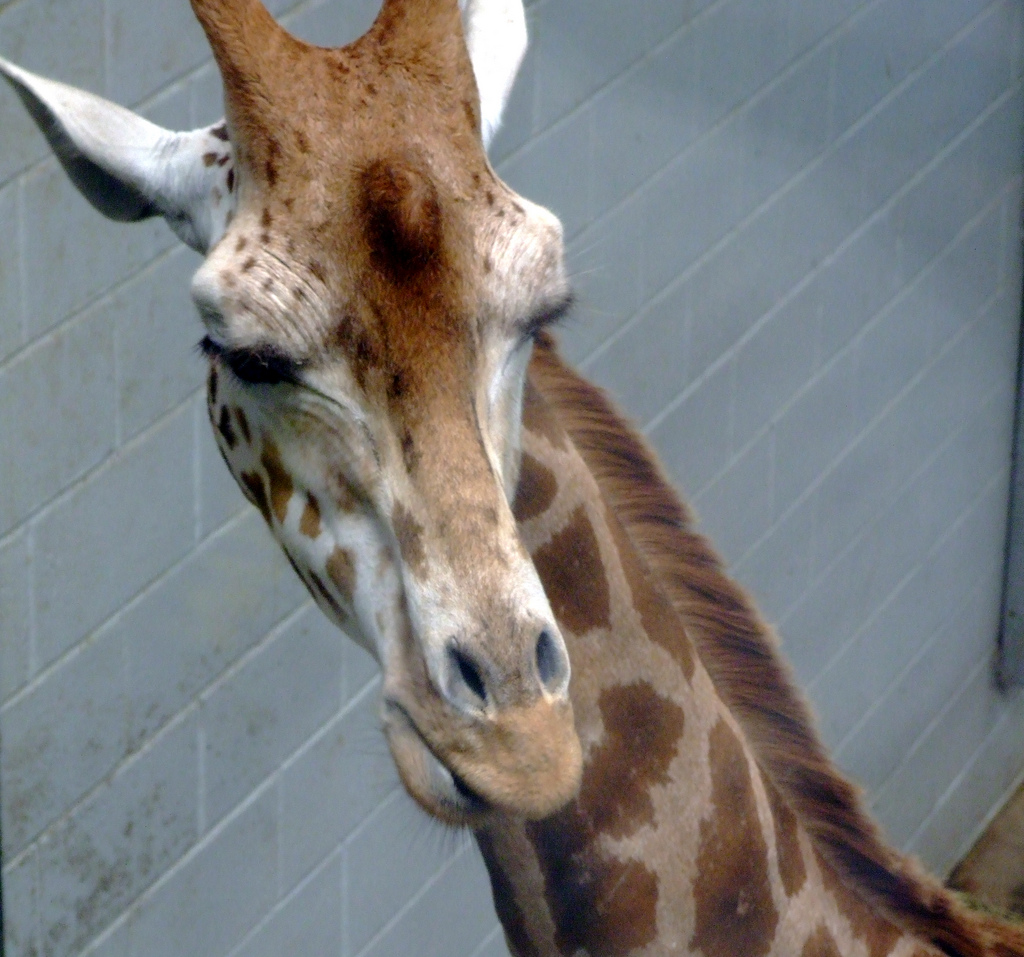giraffe: (76, 12, 883, 924)
